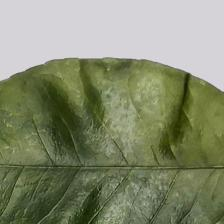healthy: (9, 66, 224, 224)
